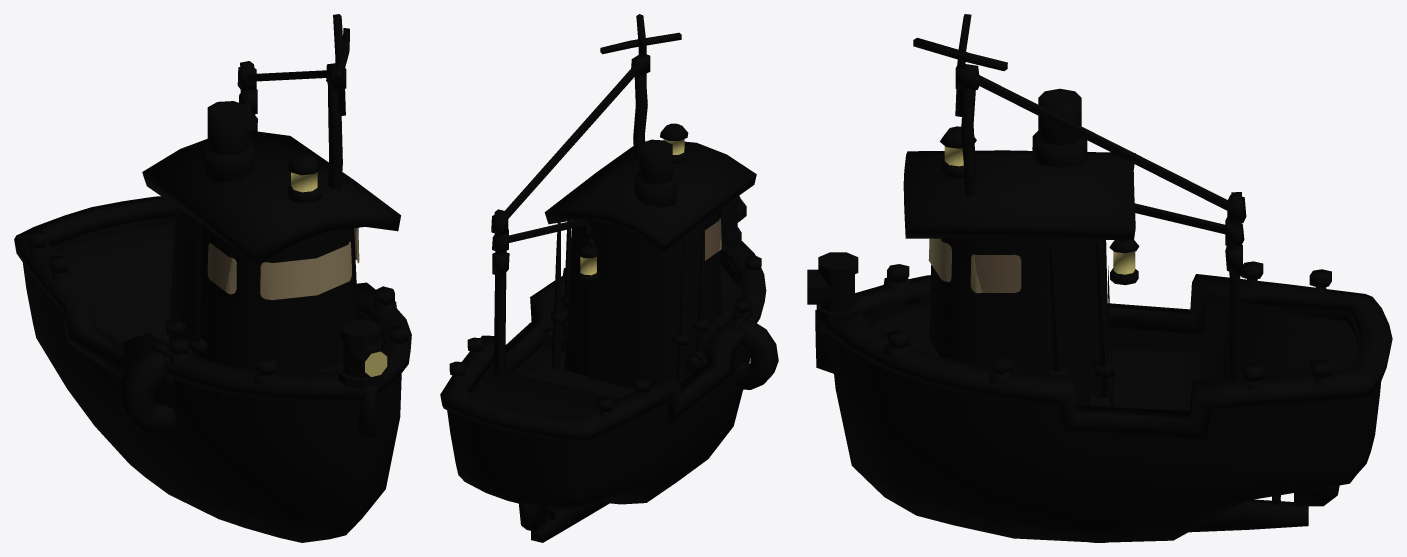
File: Marrow_Boat_Tex.fbx
The picture shows the model from 3 angles, left to right: view 1: azimuth 30°, elevation 25°; view 2: azimuth 150°, elevation 25°; view 3: azimuth 270°, elevation 25°; orthographic projection. The views are drawn at different scales.
Parts seen in each view (by area): view 1: GhostModel; view 2: GhostModel; view 3: GhostModel.
Part boxes in pixels (bbox=[...]): GhostModel: bbox=[14, 14, 411, 542]; GhostModel: bbox=[440, 14, 778, 542]; GhostModel: bbox=[807, 14, 1392, 542].
Bounding box in the file's own units: 217 × 398 × 394.
1 material, 1 textured.
